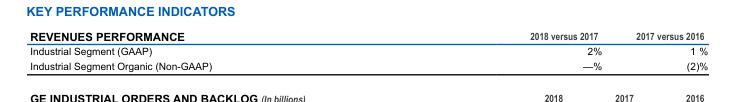table: (29, 29, 707, 71)
table column: (29, 29, 370, 71), (370, 29, 618, 71), (618, 29, 707, 71)
table column header: (29, 29, 707, 43)
table row: (29, 43, 707, 58), (29, 29, 707, 43), (29, 58, 707, 71)
